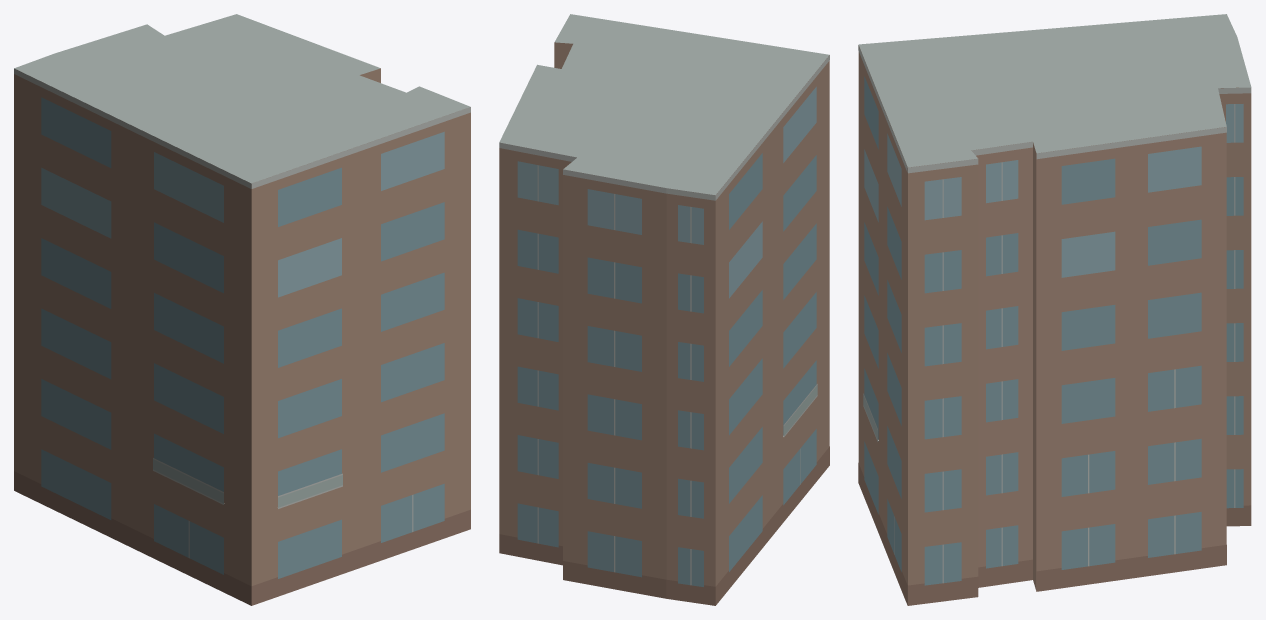
File: survey-upis-32590325.glb
3 renders of one model, left to right at view 1: azimuth 30°, elevation 25°; view 2: azimuth 150°, elevation 25°; view 3: azimuth 270°, elevation 25°, orthographic. The views are drawn at different scales.
Visible parts, largest first — view 1: survey-upis-32590325.tmp; view 2: survey-upis-32590325.tmp; view 3: survey-upis-32590325.tmp.
Part boxes in pixels (bbox=[...]): survey-upis-32590325.tmp: bbox=[14, 14, 470, 605]; survey-upis-32590325.tmp: bbox=[499, 14, 829, 605]; survey-upis-32590325.tmp: bbox=[858, 14, 1251, 605].
Bounding box in the file's own units: 13.75 × 18.3 × 14.88.
